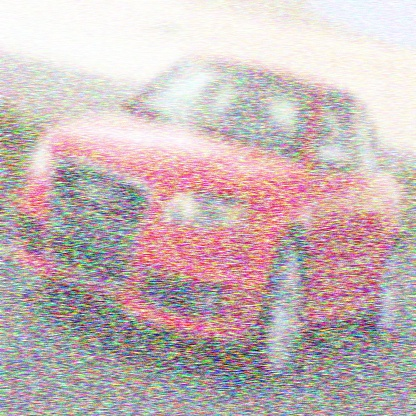Vehicle: (15, 53, 403, 381)
